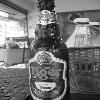beer: (23, 1, 72, 99)
